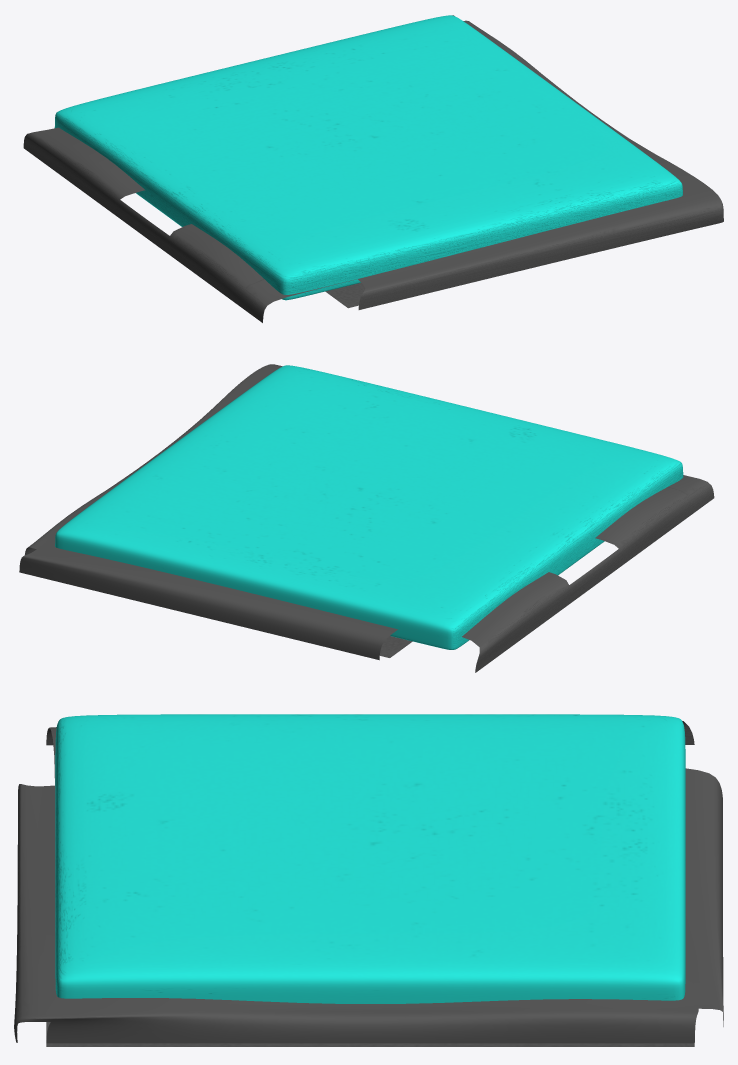
The model's file is PlacaPresion.fbx.
The picture shows the model from 3 angles, top to bottom: view 1: azimuth 30°, elevation 25°; view 2: azimuth 150°, elevation 25°; view 3: azimuth 270°, elevation 25°; orthographic projection. The views are drawn at different scales.
Visible parts, largest first — view 1: Cube.002; view 2: Cube.002; view 3: Cube.002.
Boxes of the visible parts, left/top/right/bottom form: Cube.002: left=23, top=15, right=723, bottom=322; Cube.002: left=19, top=364, right=714, bottom=672; Cube.002: left=14, top=714, right=723, bottom=1046.
Bounding box in the file's own units: 202 × 19.75 × 201.
1 material, 1 textured.
